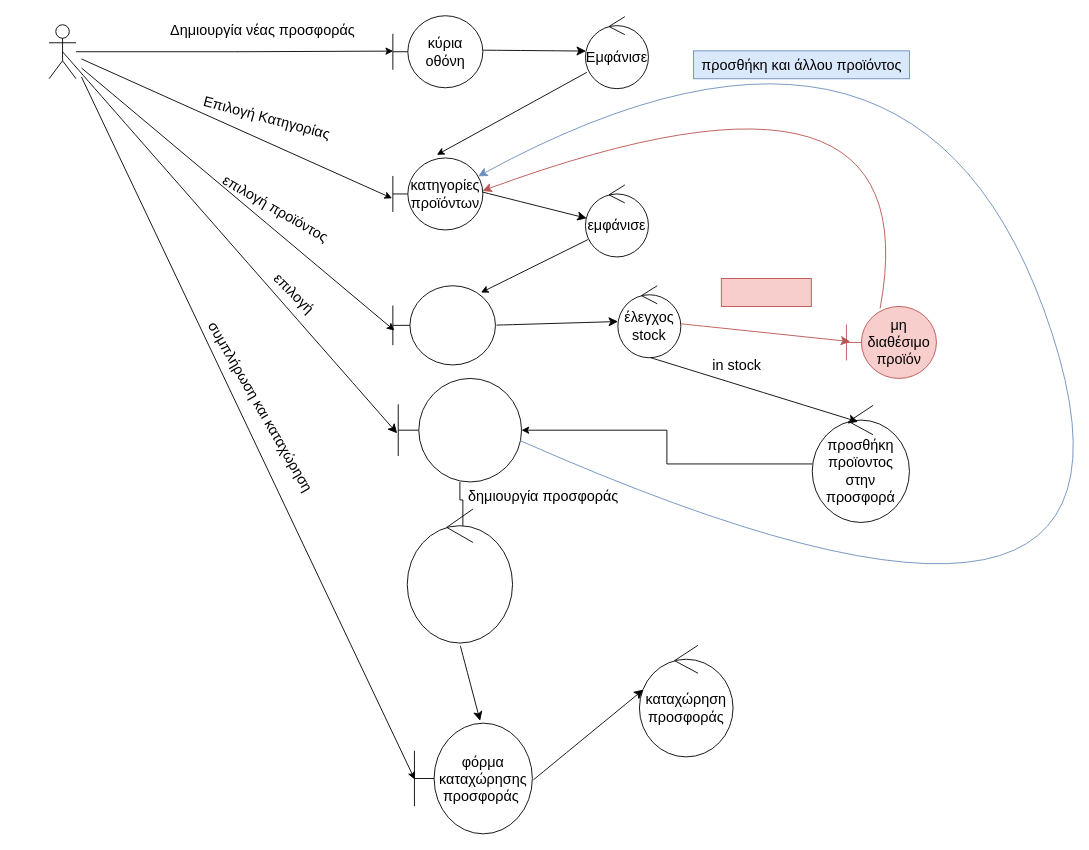
The diagram is 1089 pixels wide and 850 high, and some of its shapes have lost their labels. The shapes that lost their labels are listed below. From the top down, each one's centre as x and y in pixels, then its label:
point 62,51: φαρμακοποιός
point 765,292: out of stock
point 443,325: Προιόντα
point 459,430: Δημιουργία προσφοράς ή Προσθήκη και άλλου προιόντος
point 459,575: Υπολογισμός συνολικής αξίας των προιόντων
